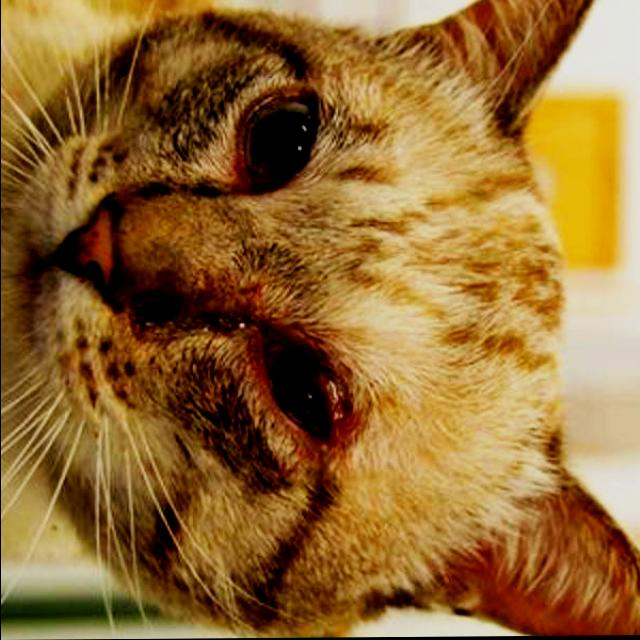eye_infection: (259, 327, 345, 449)
